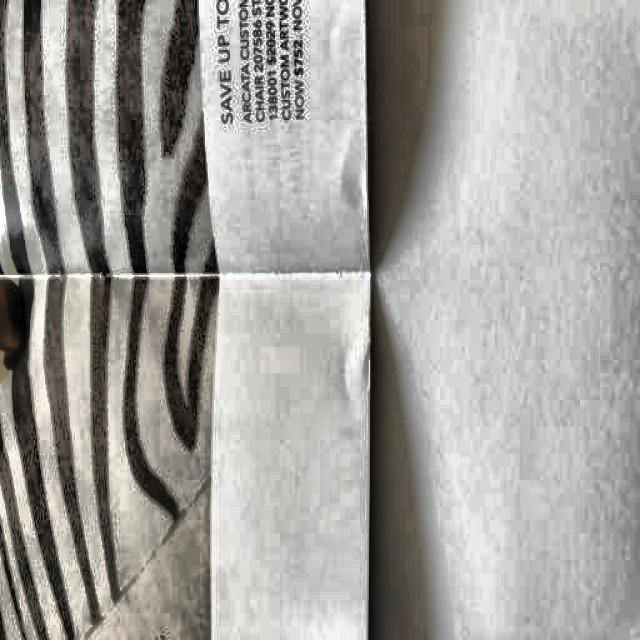Paper: (0, 0, 400, 640)
